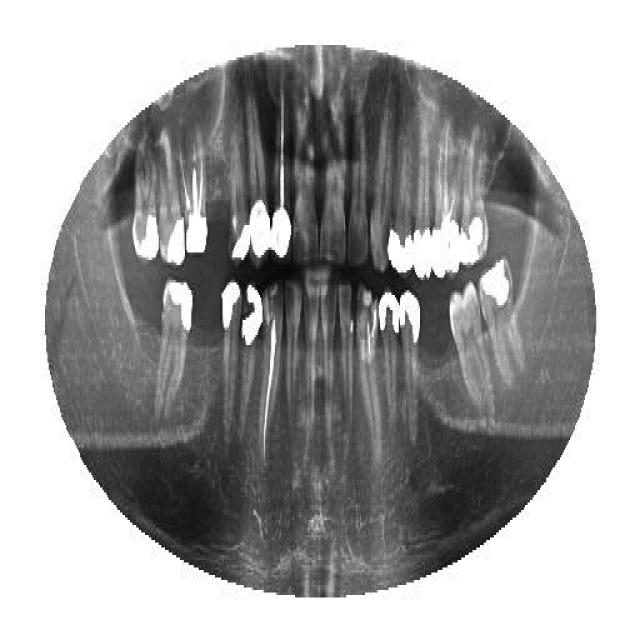Fillings: (478, 255, 532, 390), (154, 280, 194, 425), (236, 280, 262, 455), (387, 115, 415, 275), (216, 278, 242, 448), (156, 128, 186, 268), (398, 290, 422, 448), (131, 143, 160, 265), (379, 282, 401, 440), (248, 120, 272, 260), (468, 127, 492, 265), (415, 108, 434, 278), (229, 130, 250, 268)
Implant: (430, 125, 461, 280), (260, 280, 285, 468), (272, 72, 292, 262), (184, 128, 210, 262)
